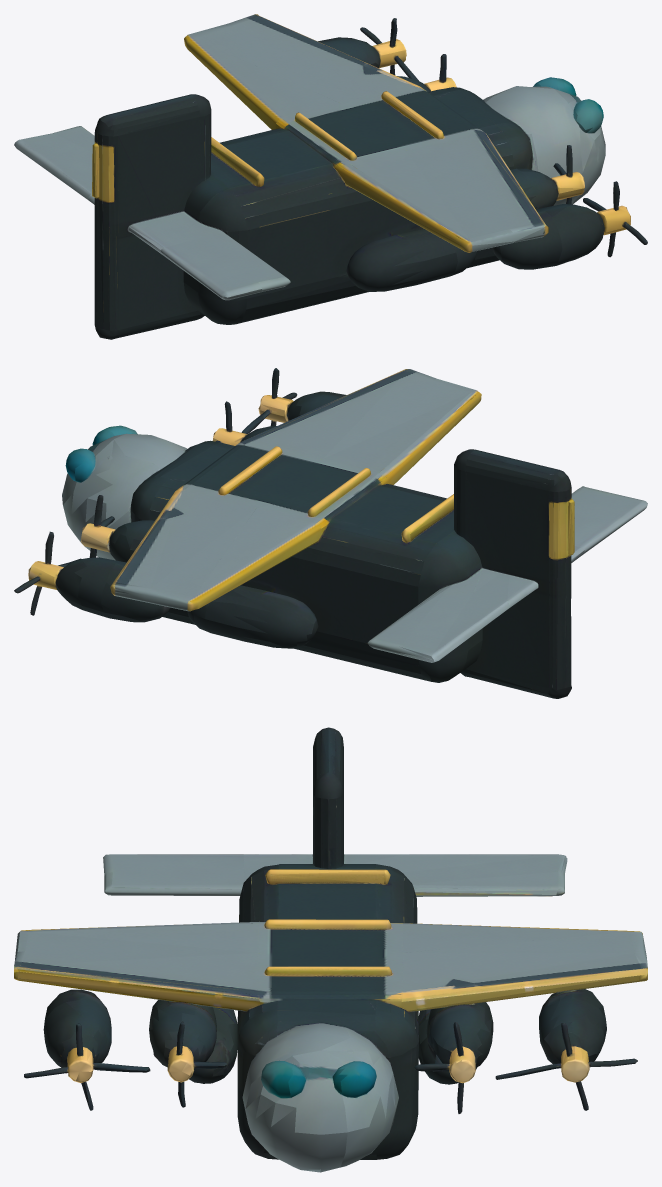
File: cargo-aircraft.glb
The picture shows the model from 3 angles, top to bottom: view 1: azimuth 30°, elevation 25°; view 2: azimuth 150°, elevation 25°; view 3: azimuth 270°, elevation 25°; orthographic projection. The views are drawn at different scales.
Bounding box in the file's own units: 0.998 × 0.4258 × 1.
1 material, 1 textured.
